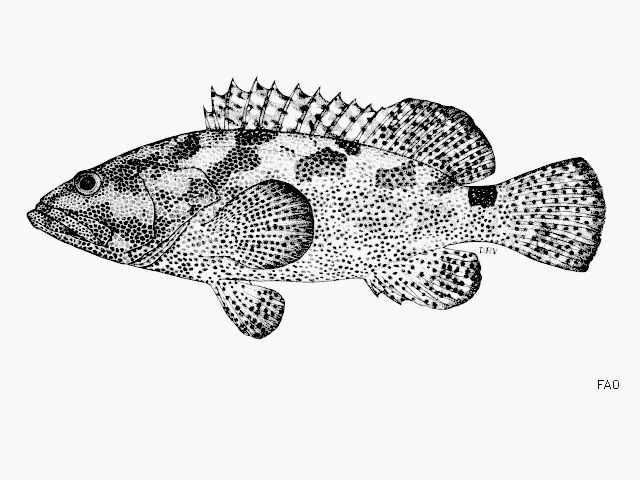fish: (27, 76, 606, 339)
